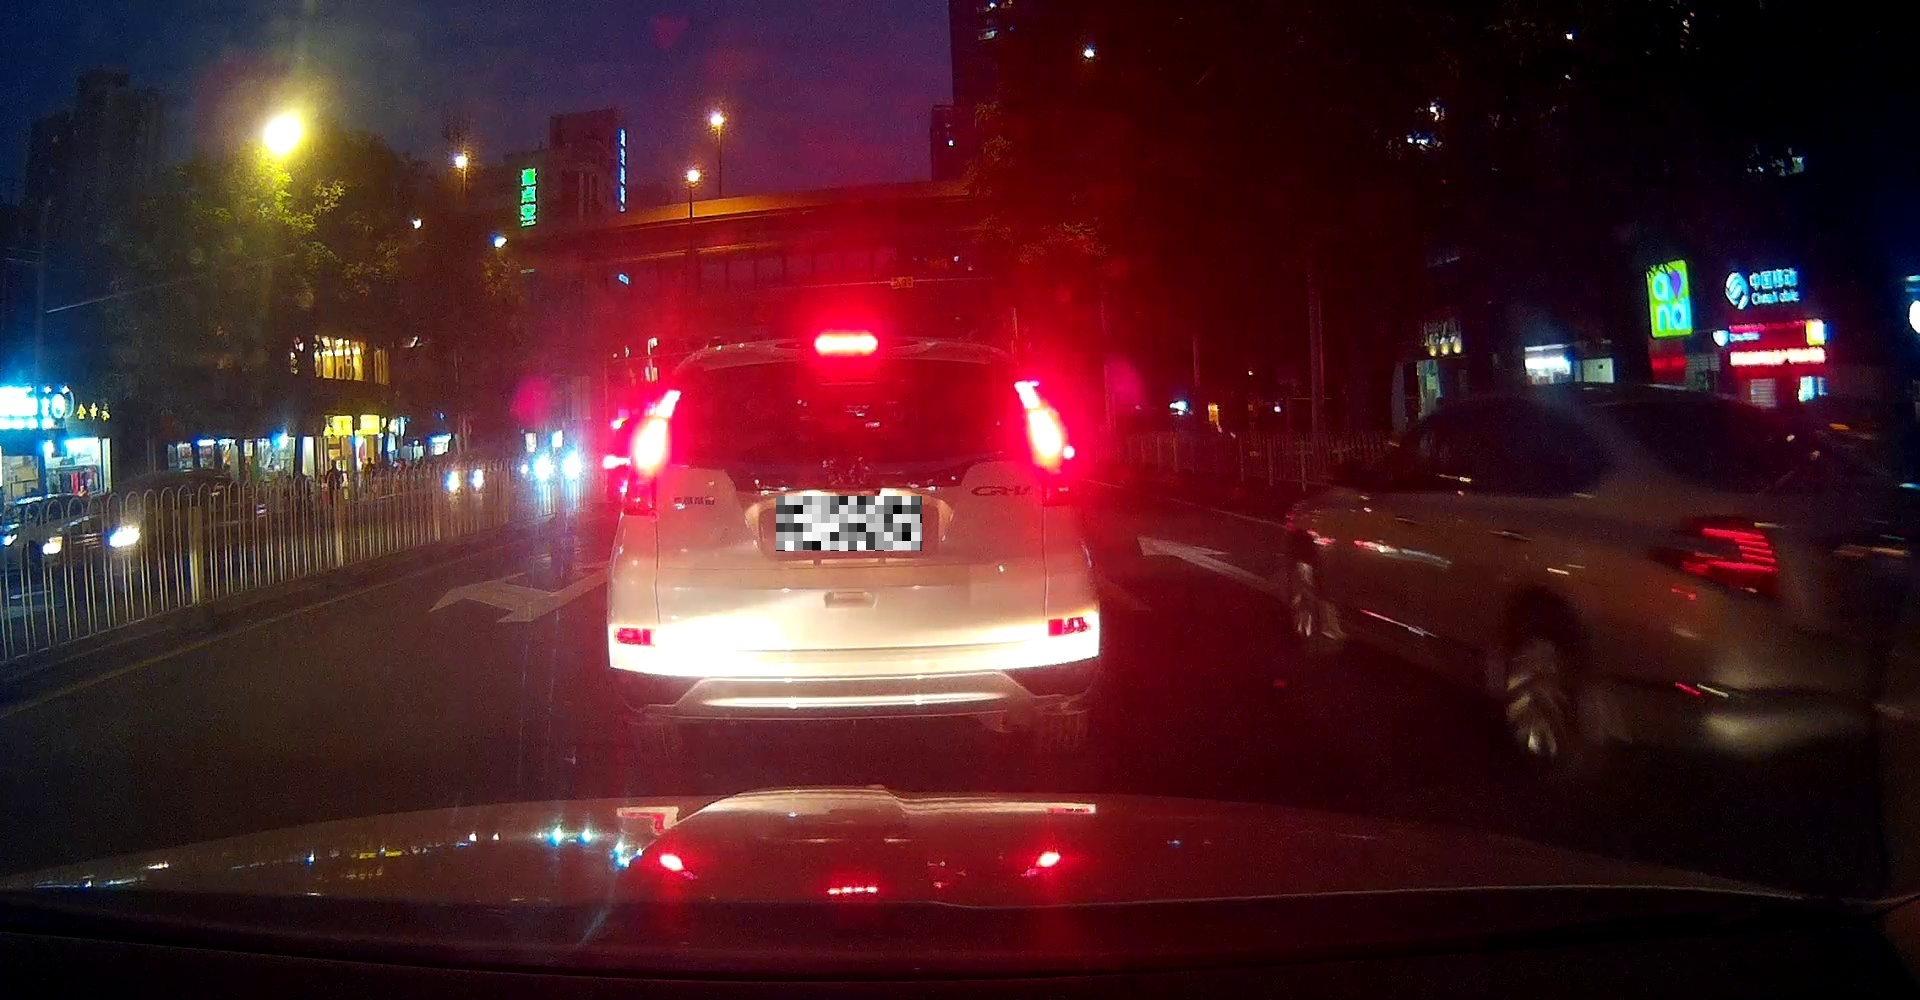L_light: (618, 388, 681, 514)
R_light: (1010, 378, 1077, 506)
T_light: (814, 334, 877, 355)
night-brake: (603, 329, 1103, 760)
plate_1: (776, 496, 922, 551)
